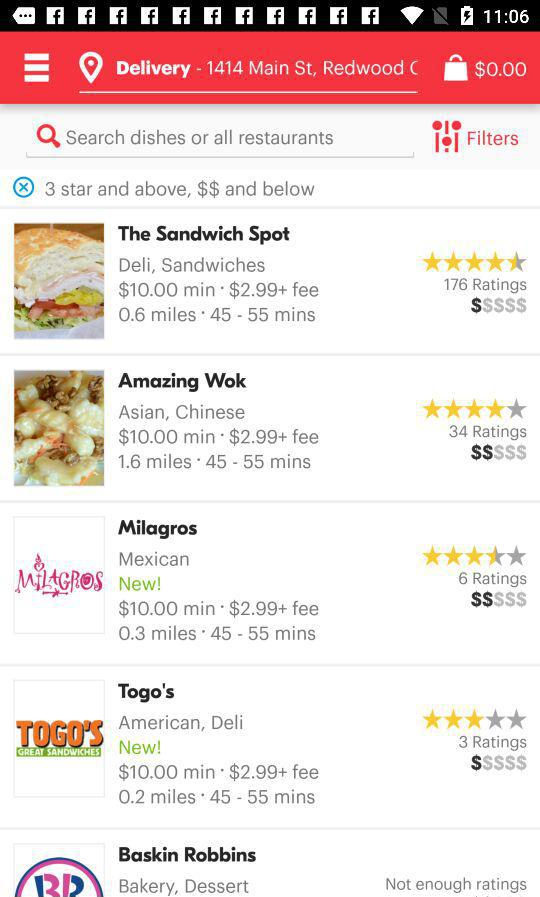EditText: (26, 124, 415, 160)
Icon: (422, 544, 528, 567), (422, 707, 528, 730), (422, 398, 528, 420), (423, 251, 528, 273), (79, 52, 105, 86), (24, 53, 51, 84), (443, 54, 469, 83), (37, 125, 62, 150), (13, 177, 36, 200)
Image: (14, 680, 106, 799), (14, 516, 106, 635), (15, 370, 105, 487), (15, 223, 105, 340), (14, 843, 106, 897), (431, 120, 462, 154)
Text: (118, 256, 320, 324), (118, 404, 320, 470), (118, 762, 320, 805), (119, 599, 320, 642), (116, 59, 420, 79), (45, 180, 316, 200), (67, 130, 334, 146), (118, 224, 291, 247), (118, 372, 248, 393), (120, 877, 250, 897), (385, 876, 527, 894), (119, 714, 244, 733), (119, 846, 257, 863), (118, 519, 199, 540), (443, 277, 527, 294), (448, 424, 527, 441), (118, 682, 176, 704), (119, 551, 191, 568), (458, 571, 527, 588), (459, 735, 527, 752), (470, 754, 527, 773), (470, 590, 527, 609), (471, 443, 527, 462), (474, 61, 527, 81), (470, 297, 527, 315), (467, 130, 519, 147), (120, 739, 162, 756), (119, 576, 162, 592)
UpperTaskBar: (1, 1, 540, 33)
